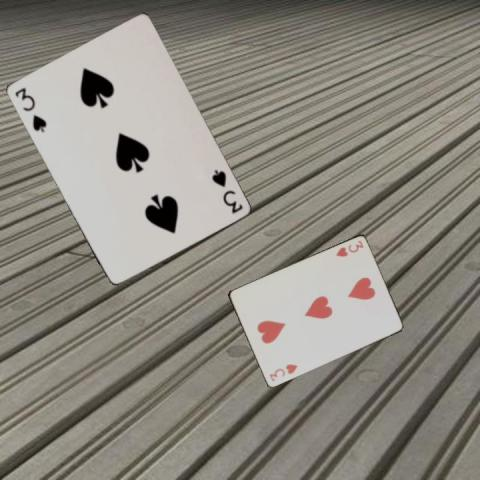3h: (266, 361, 299, 383), (332, 237, 364, 259)
3s: (12, 84, 48, 133), (208, 166, 244, 214)
